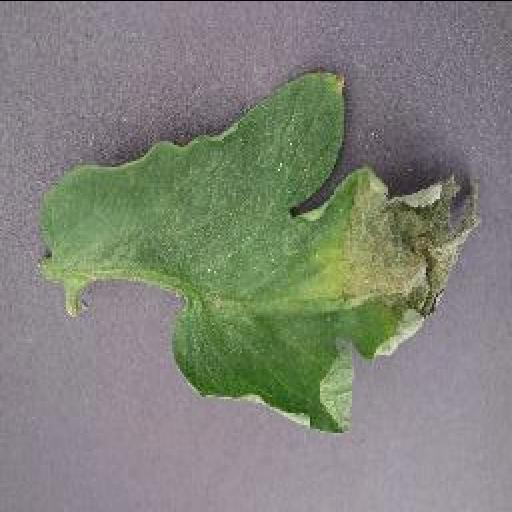disease_tomato: (45, 66, 483, 434)
